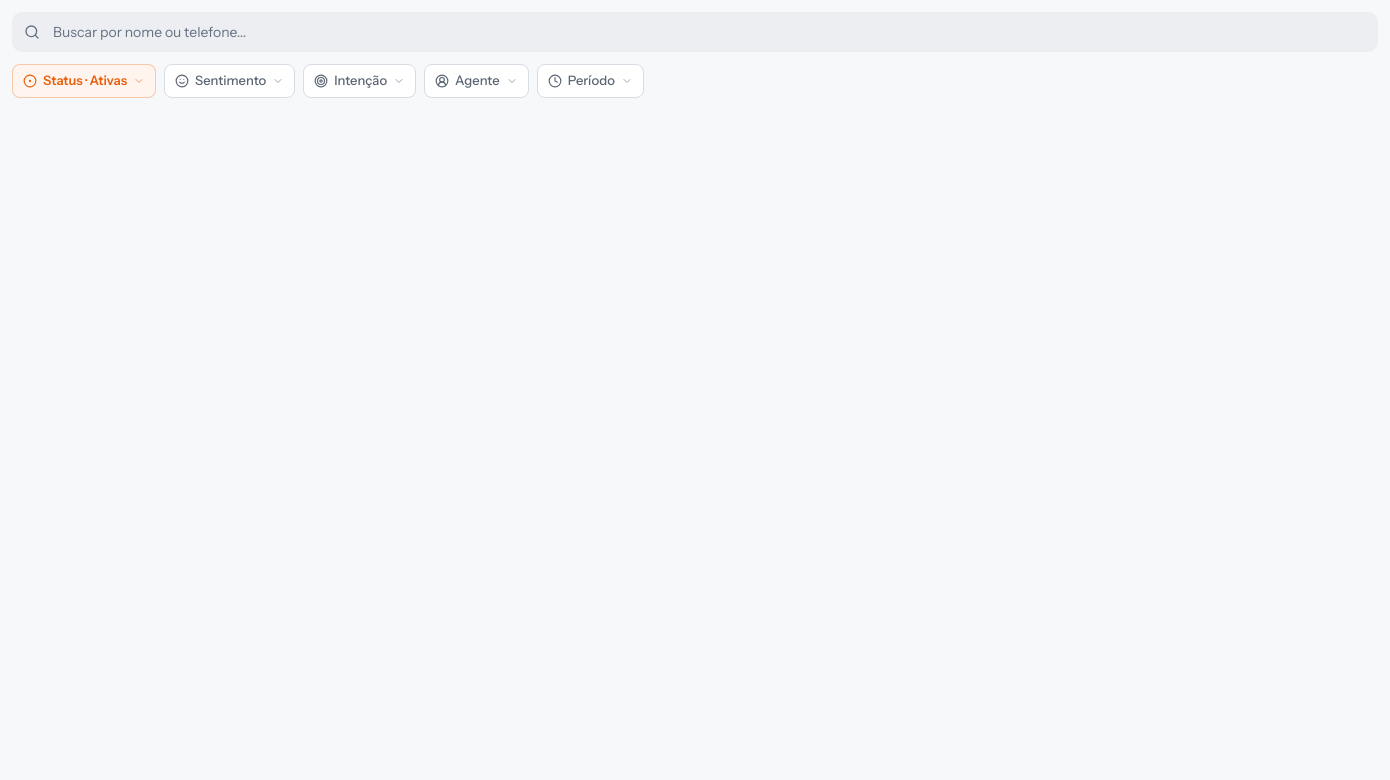
Test: ConversationFiltersCompact — chip-trigger › clicar fora do popover fecha ele
The width and height of the screenshot is (1390, 780).
What coordinates should you click on to do the following:
click the button "Sentimento"
I would click on:
 (230, 81)
Its box is [164, 64, 295, 98].
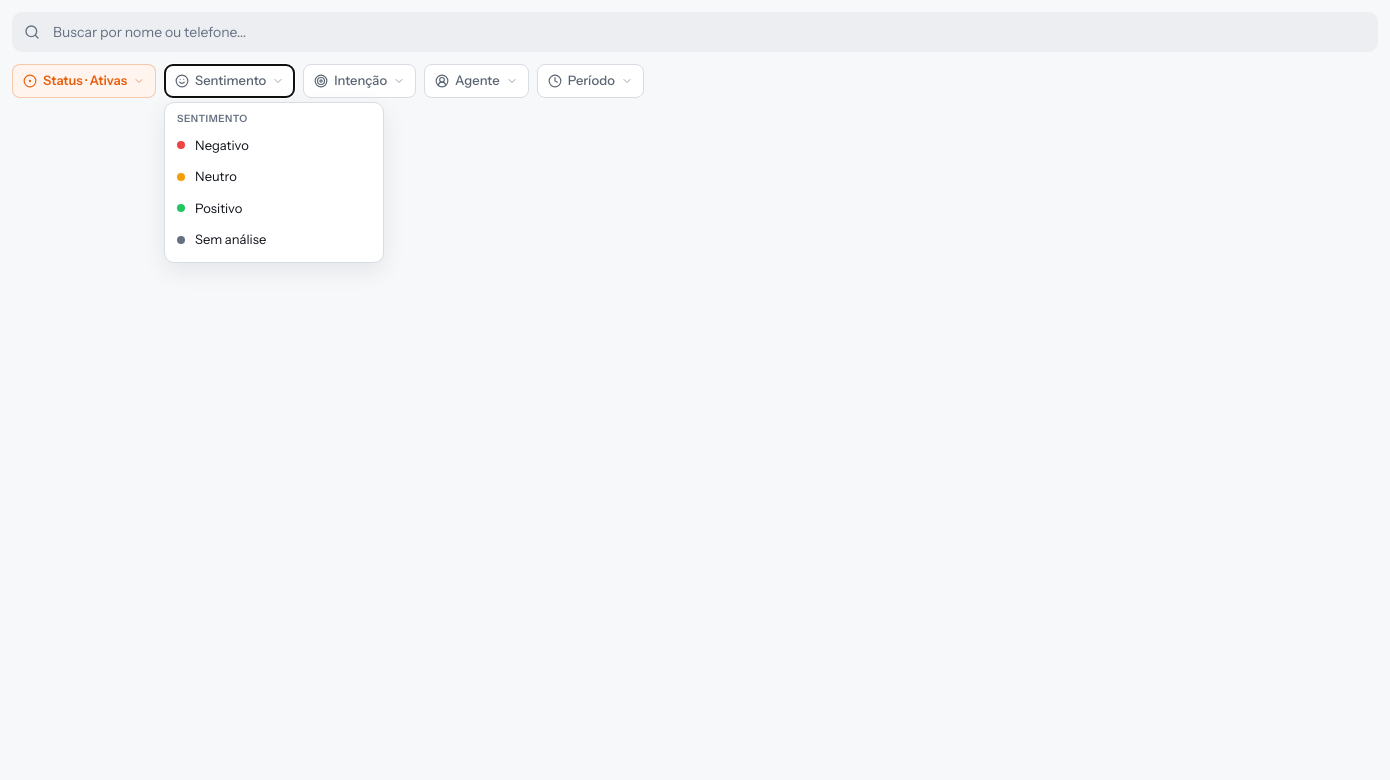
Expected: the button "Negativo" is shown, [165, 130, 383, 161]
Note: click fora — direto no body
What coordinates should you click on to do the following:
click the element that starts with "Status"
I would click on:
 (695, 396)
Its box is [12, 12, 1378, 779].
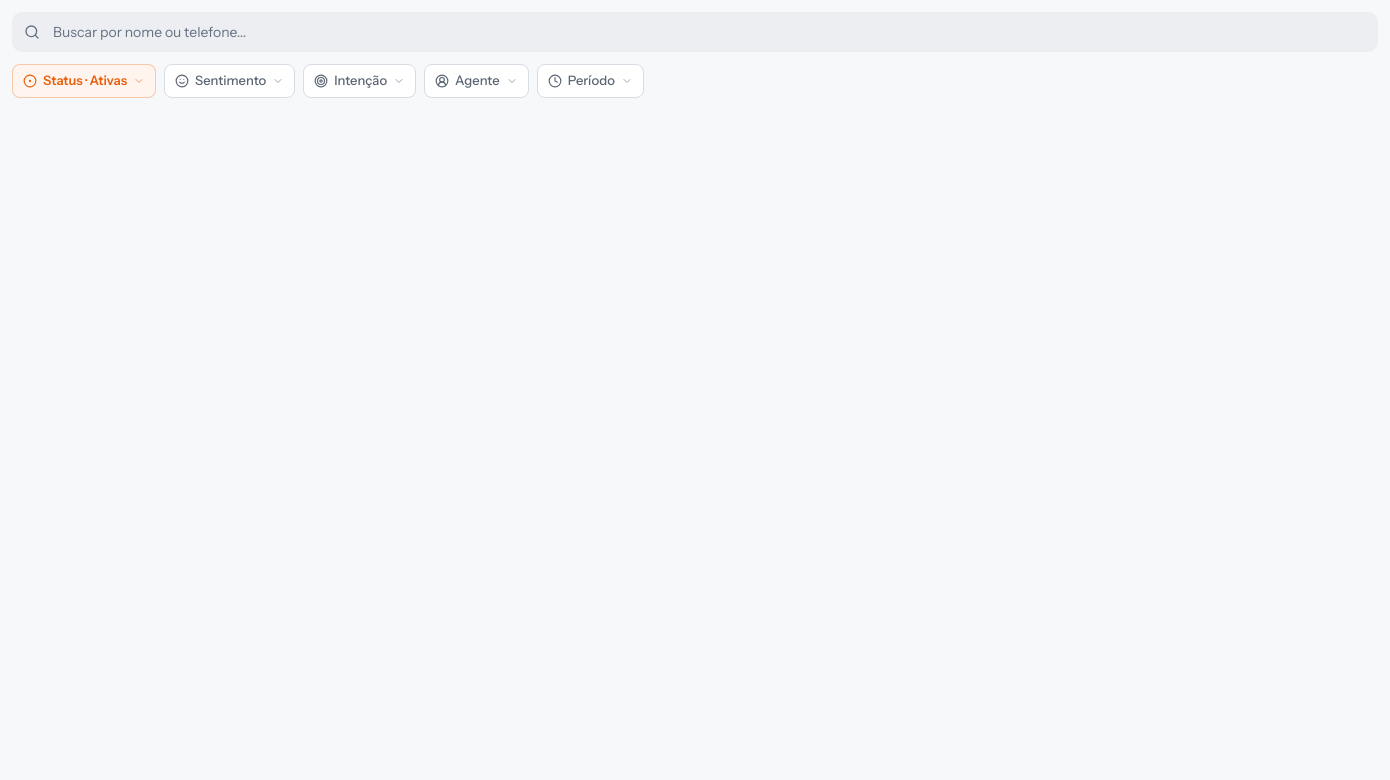
Expected: the button "Negativo" is gone
